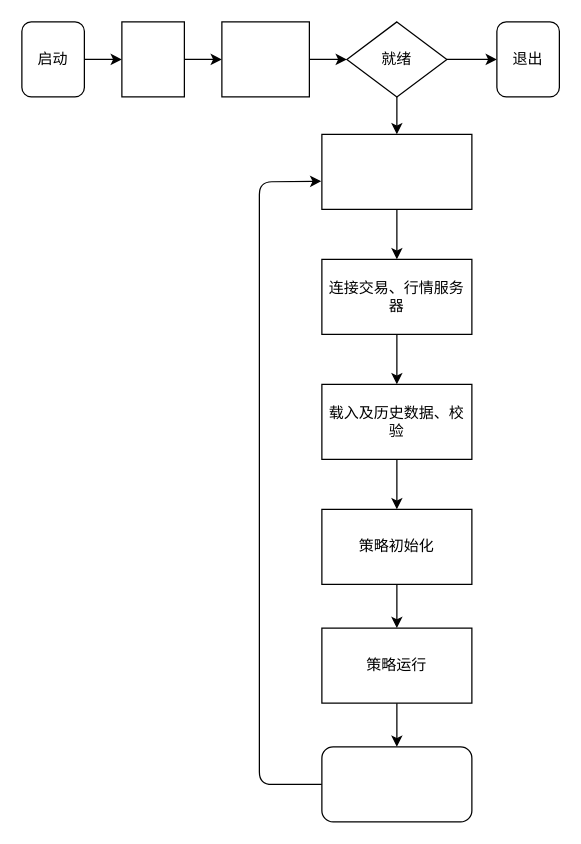
This 581x844 diagram has some shape labels left out. The shapes that lost their labels are listed below. From the top down, each one's box as (x1, y1, x2, y2) in pixels, then its label:
(121, 21, 184, 97): 载入策略
(221, 21, 309, 97): 载入持仓、订单
(321, 133, 472, 209): 策略启动
(321, 746, 472, 822): 策略停止
